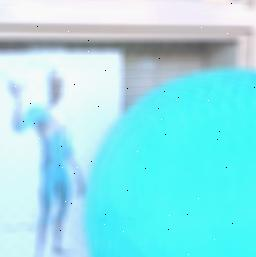algae: (85, 64, 256, 257)
